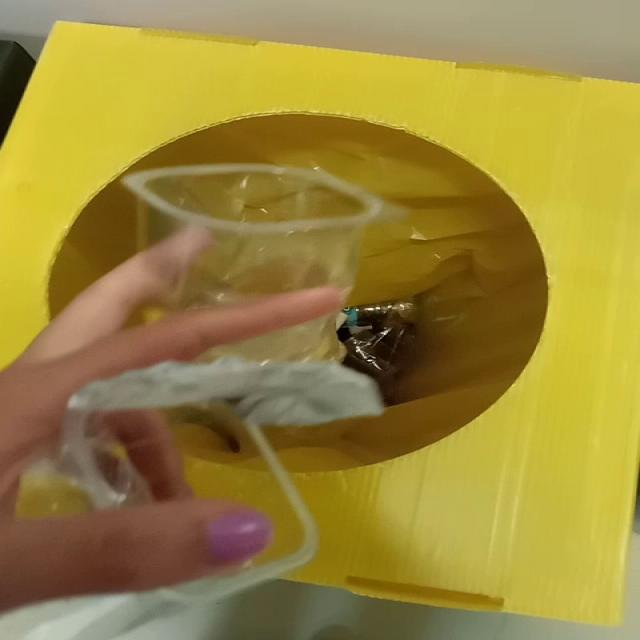plastic: (123, 164, 381, 308), (205, 316, 343, 362)
